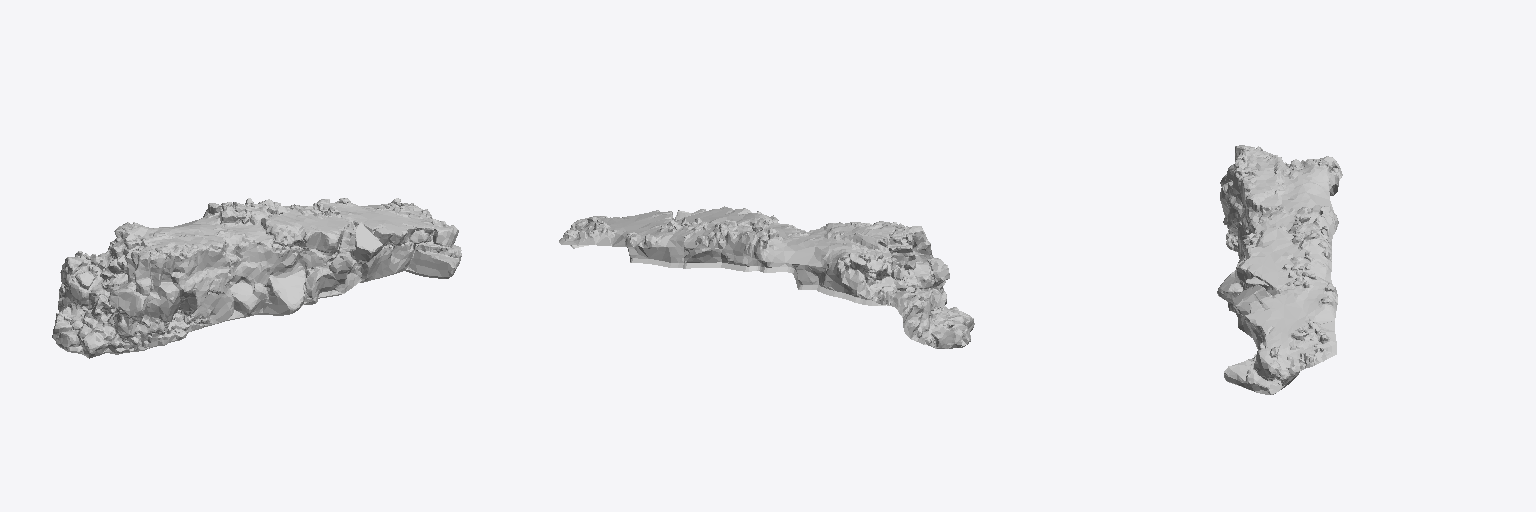
The model's file is mega_legacy.obj.
3 renders of one model, left to right at view 1: azimuth 30°, elevation 25°; view 2: azimuth 150°, elevation 25°; view 3: azimuth 270°, elevation 25°, orthographic.
Parts seen in each view (by area): view 1: shxxJ_LOD0_TIER1_000_Aset_rock_assembly_XL_shxxJ_LOD0; view 2: shxxJ_LOD0_TIER1_000_Aset_rock_assembly_XL_shxxJ_LOD0; view 3: shxxJ_LOD0_TIER1_000_Aset_rock_assembly_XL_shxxJ_LOD0.
Part boxes in pixels (left/top/right/bottom): shxxJ_LOD0_TIER1_000_Aset_rock_assembly_XL_shxxJ_LOD0: left=52, top=198, right=461, bottom=358; shxxJ_LOD0_TIER1_000_Aset_rock_assembly_XL_shxxJ_LOD0: left=559, top=206, right=974, bottom=348; shxxJ_LOD0_TIER1_000_Aset_rock_assembly_XL_shxxJ_LOD0: left=1217, top=145, right=1342, bottom=394.
Size of the model in its own units: 15.48 by 3.47 by 4.22.